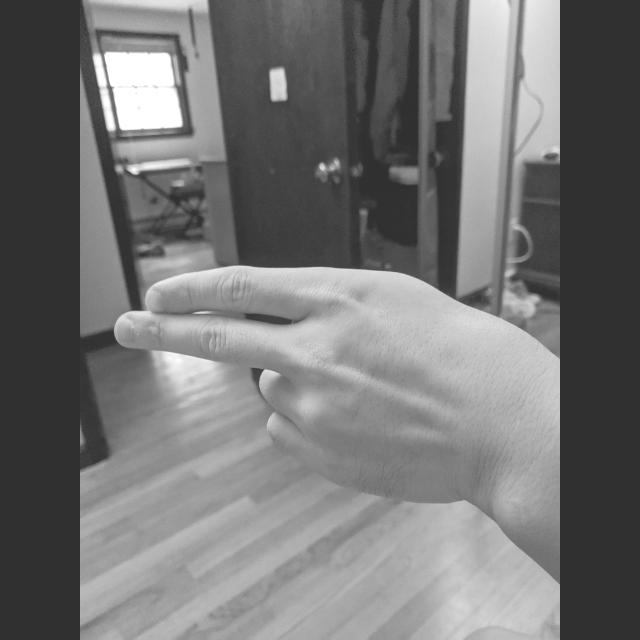H: (106, 258, 518, 510)
